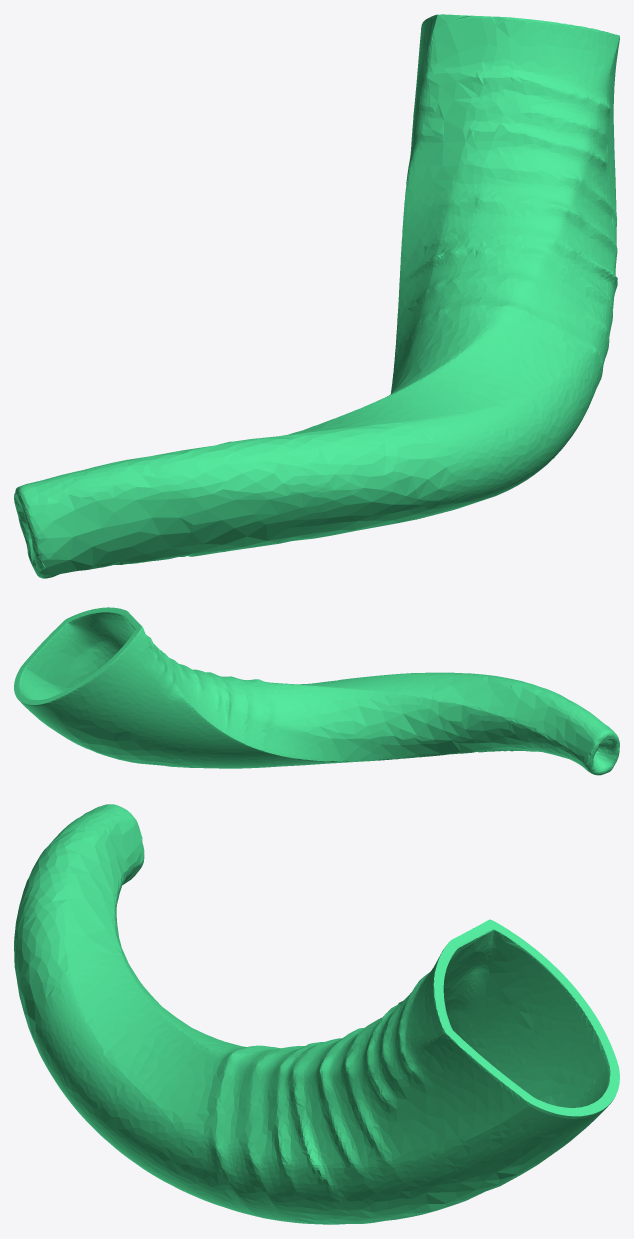
The model's file is horn.glb.
3 views of the same model, one above another, from view 1: azimuth 30°, elevation 25°; view 2: azimuth 150°, elevation 25°; view 3: azimuth 270°, elevation 25° (orthographic). The views are drawn at different scales.
Visible parts, largest first — view 1: shofarV2; view 2: shofarV2; view 3: shofarV2.
Boxes of the visible parts, x1,y1,x2,y2 form: shofarV2: [14, 14, 619, 578]; shofarV2: [14, 607, 619, 775]; shofarV2: [14, 804, 619, 1224].
Bounding box in the file's own units: 12.57 × 4.72 × 8.54.
